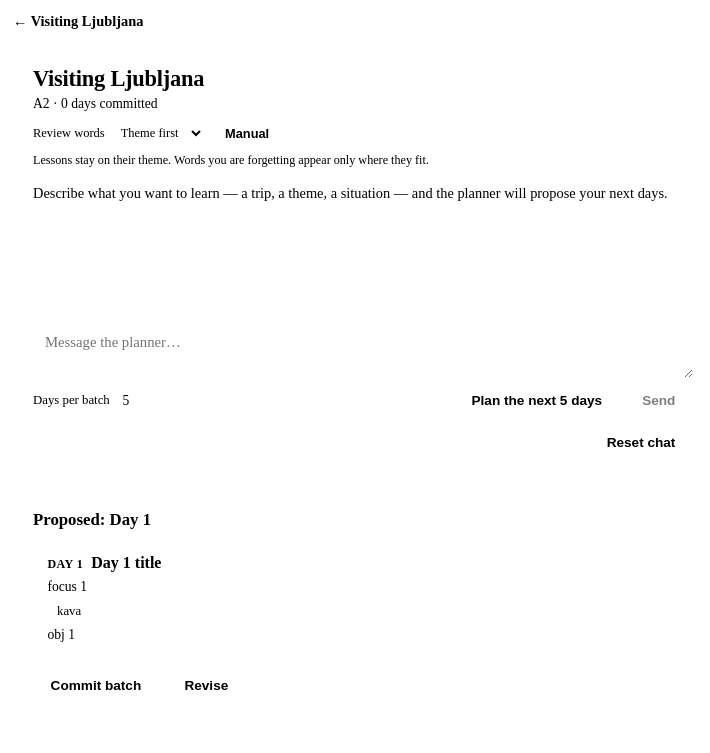
/c/[curriculumId]/plan page › a pure-chat turn keeps the existing proposal on screen
Expected: the heading "Proposed: Day 1" is shown, [33,510,151,529]
Step 1. Type "hmm" into the text box with placeholder "Message the planner…" → {"x": 363, "y": 351}, box [33,325,693,378]
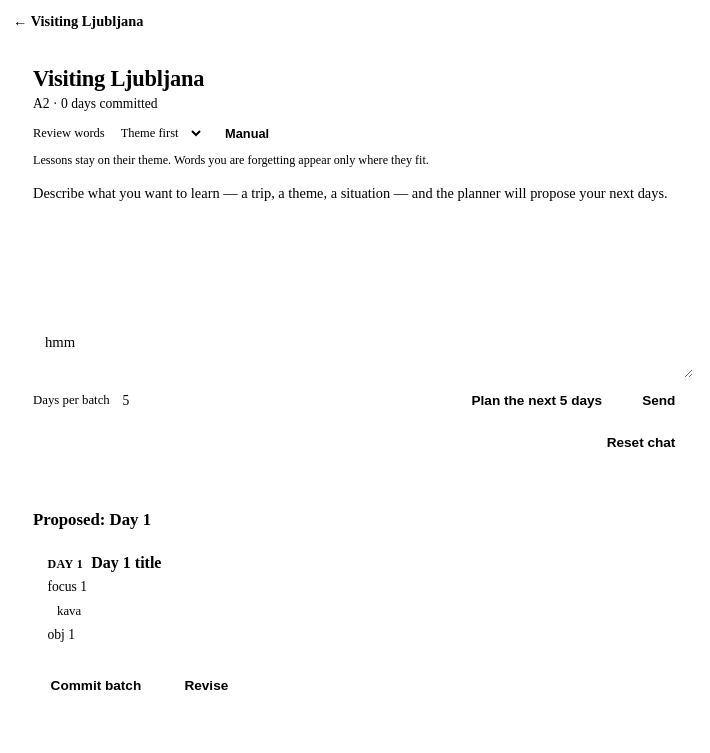
Step 2. Click the button "Send" → {"x": 659, "y": 401}, box [625,386,693,415]
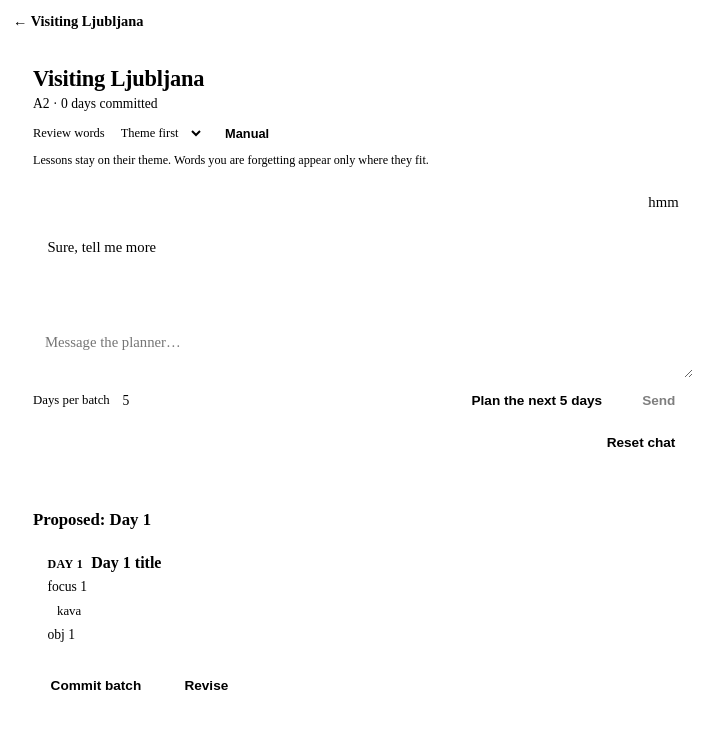
Expected: the heading "Proposed: Day 1" is shown, [33,510,151,529]
Expected: the text "Sure, tell me more" is shown, [47,239,156,255]
